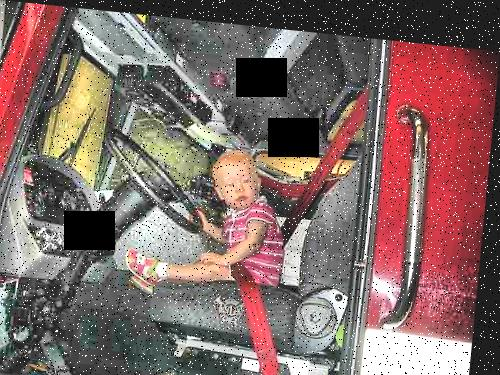seatbelt: (274, 84, 369, 234), (220, 245, 307, 375)
